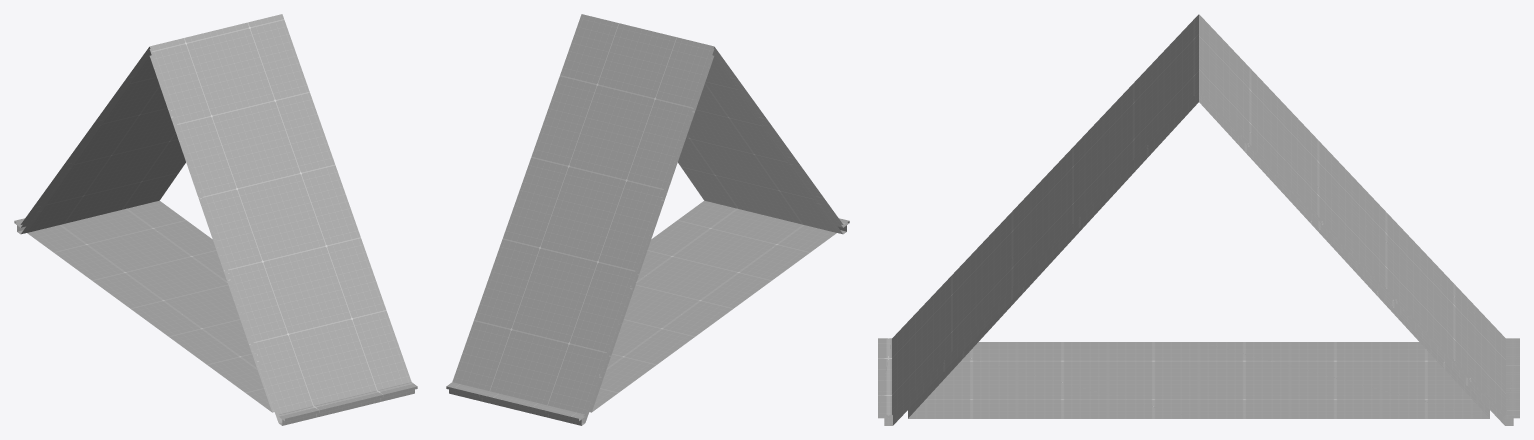
File: HighRoof.009.fbx
The picture shows the model from 3 angles, left to right: view 1: azimuth 30°, elevation 25°; view 2: azimuth 150°, elevation 25°; view 3: azimuth 270°, elevation 25°; orthographic projection. The views are drawn at different scales.
Visible parts, largest first — view 1: HighRoof.009; view 2: HighRoof.009; view 3: HighRoof.009.
Boxes of the visible parts, bbox=[...] form: HighRoof.009: bbox=[14, 14, 417, 425]; HighRoof.009: bbox=[446, 14, 849, 425]; HighRoof.009: bbox=[878, 14, 1519, 425].
Bounding box in the file's own units: 200 × 406 × 706.
